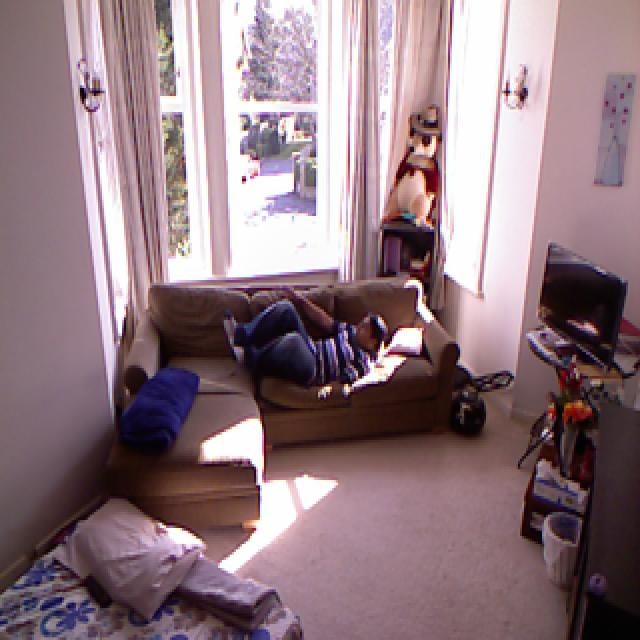lying: (215, 280, 399, 400)
